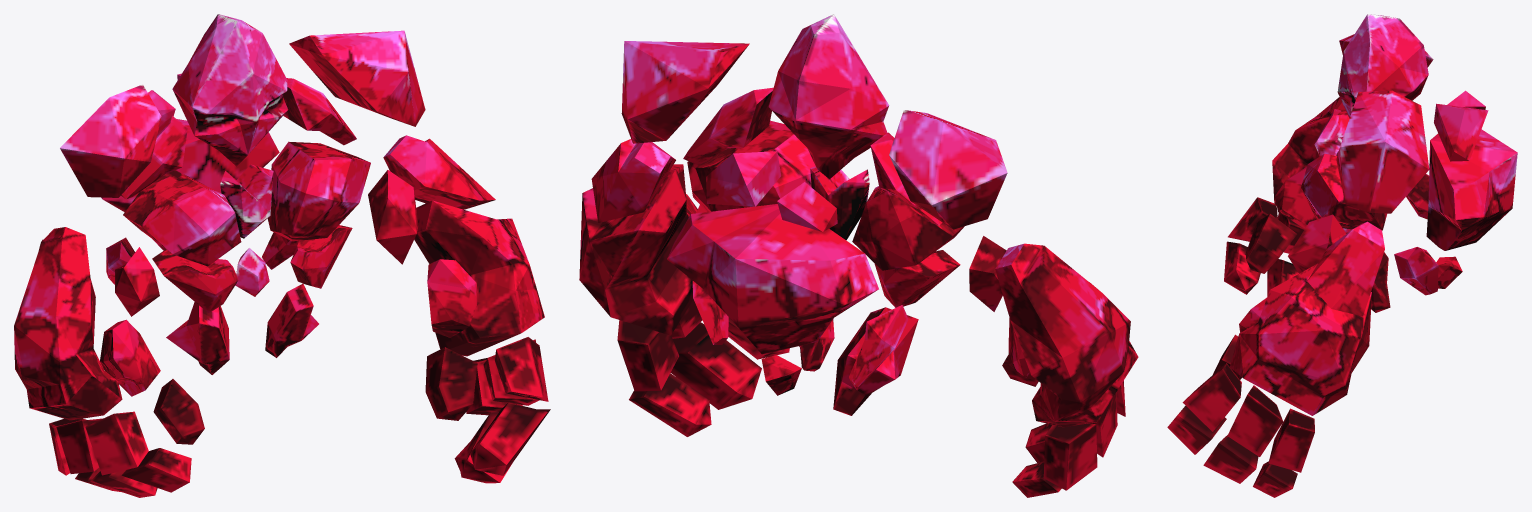
The model's file is elemental_c8b94fce.glb.
The picture shows the model from 3 angles, left to right: view 1: azimuth 30°, elevation 25°; view 2: azimuth 150°, elevation 25°; view 3: azimuth 270°, elevation 25°; orthographic projection. The views are drawn at different scales.
Size of the model in its own units: 2.96 by 2.69 by 2.1.
1 material, 1 textured.
